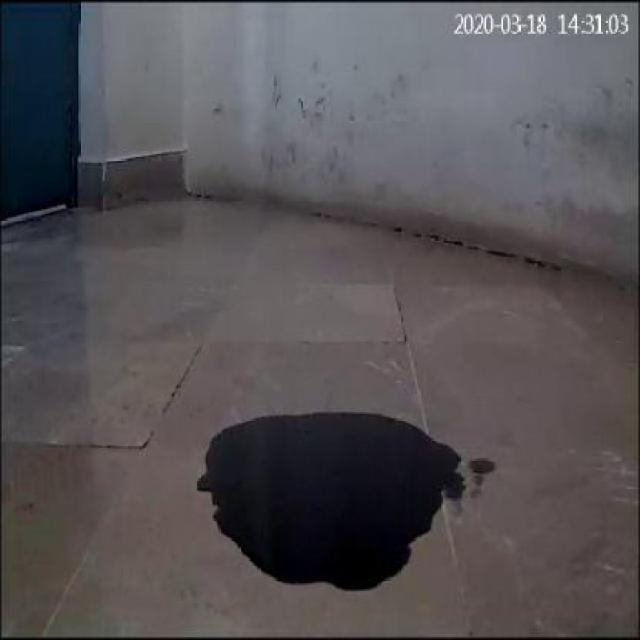spill: (194, 409, 466, 591)
